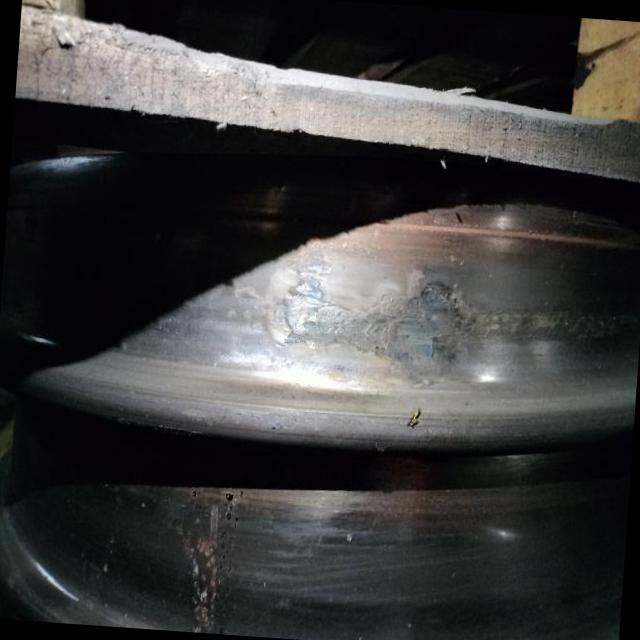Rollerpile: (275, 267, 597, 380)
